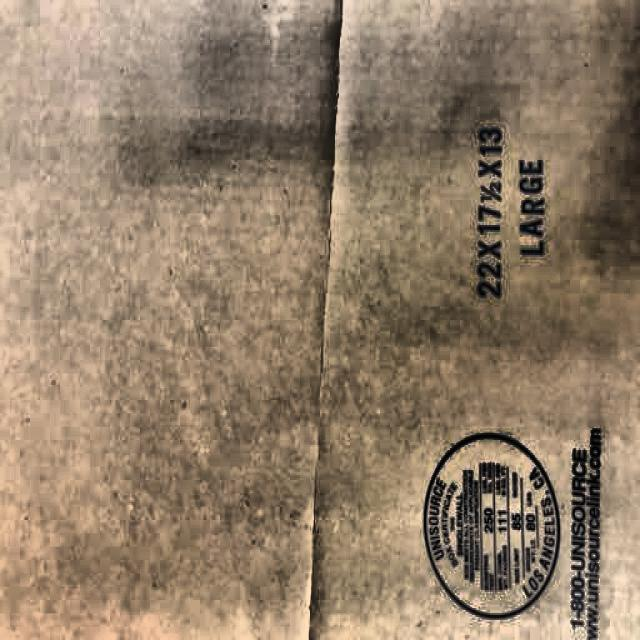cardboard: (306, 0, 638, 638)
